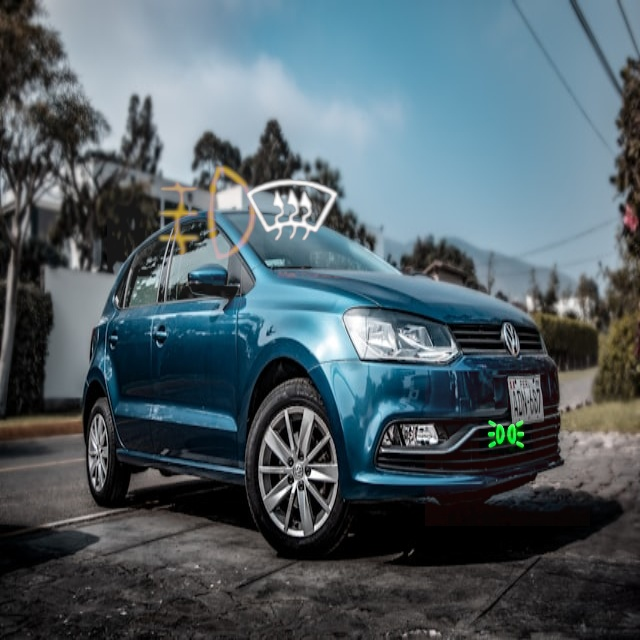symbol: (107, 112, 312, 317), (425, 361, 590, 526), (219, 138, 367, 286)
